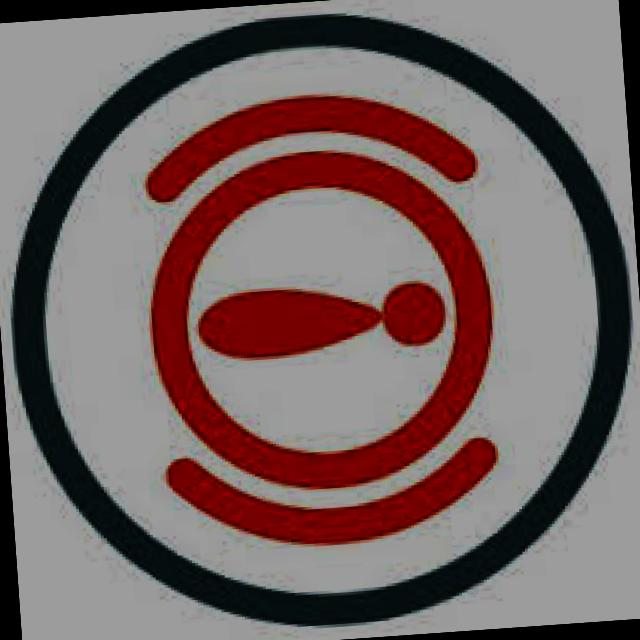kontrolka: (117, 61, 535, 569)
